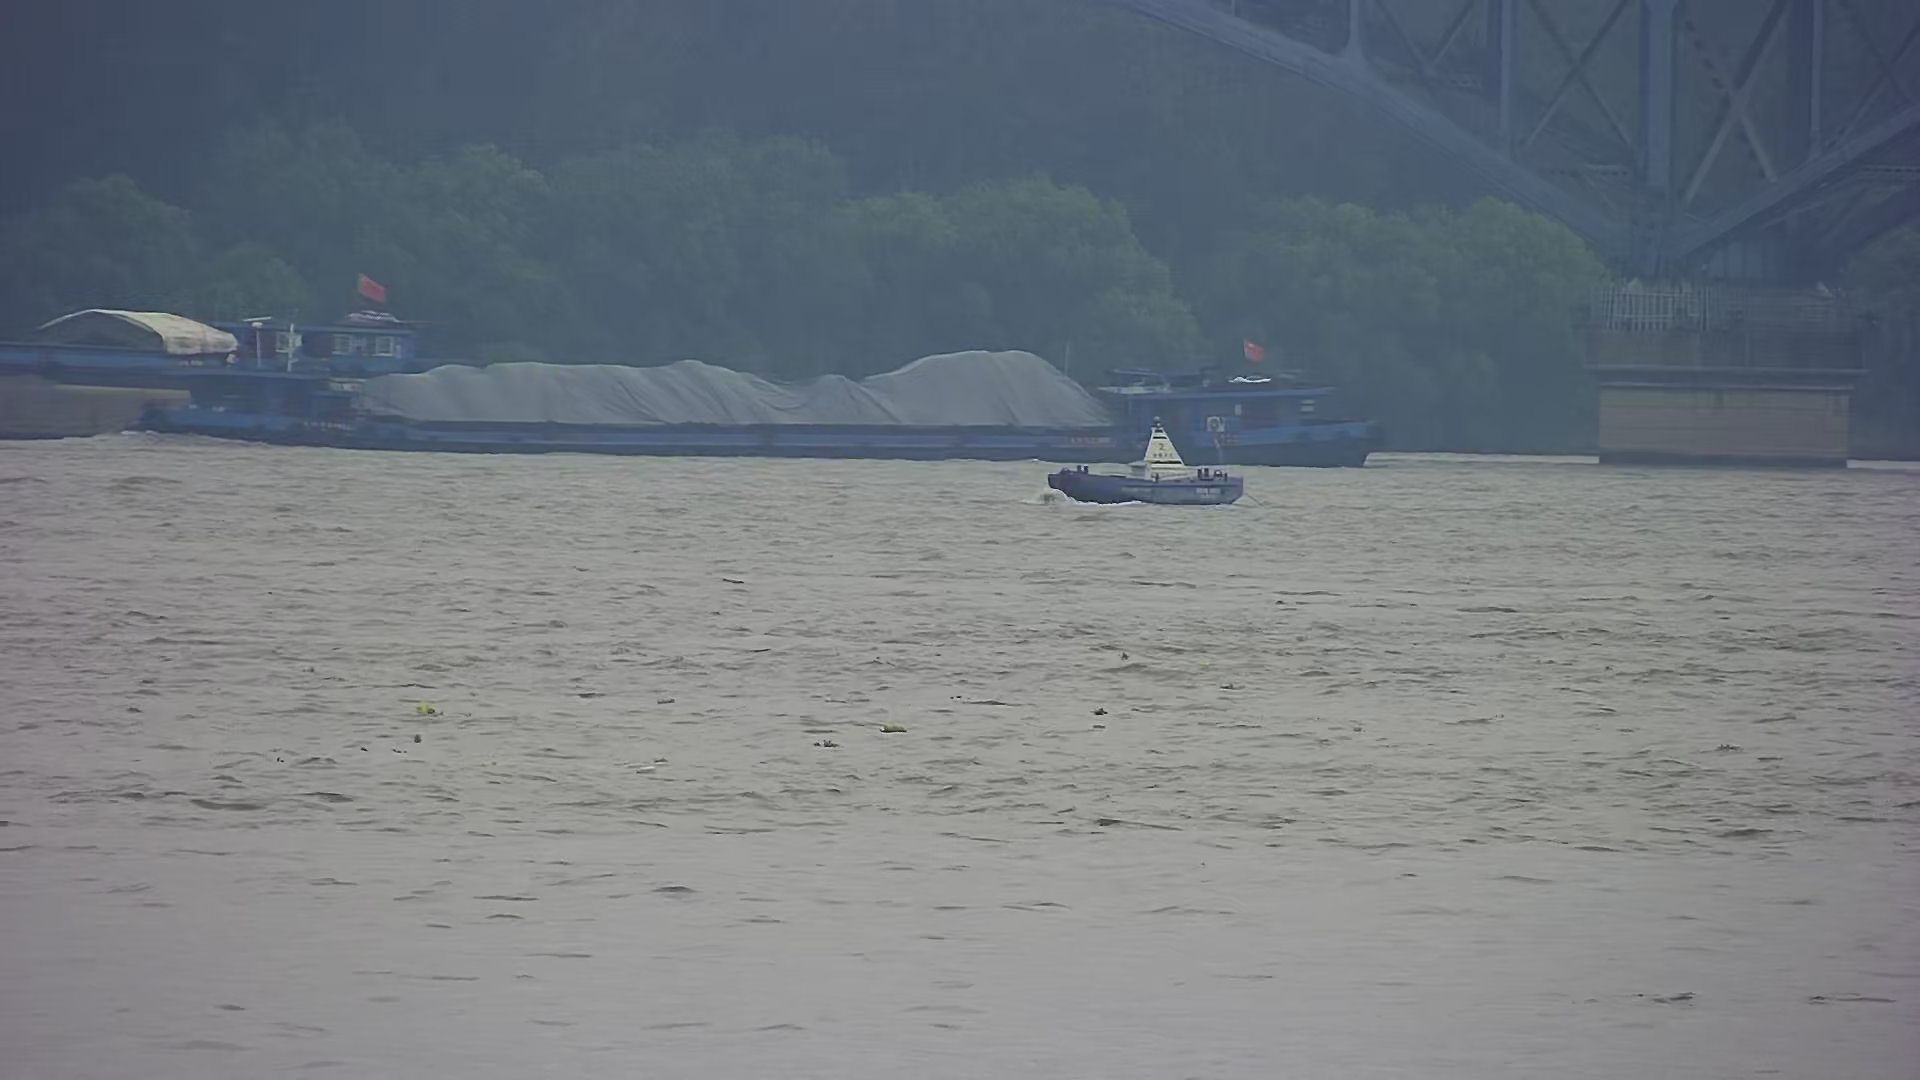boat: (1036, 409, 1263, 512)
bridge: (1110, 1, 1916, 477)
ship: (150, 266, 1411, 468)
